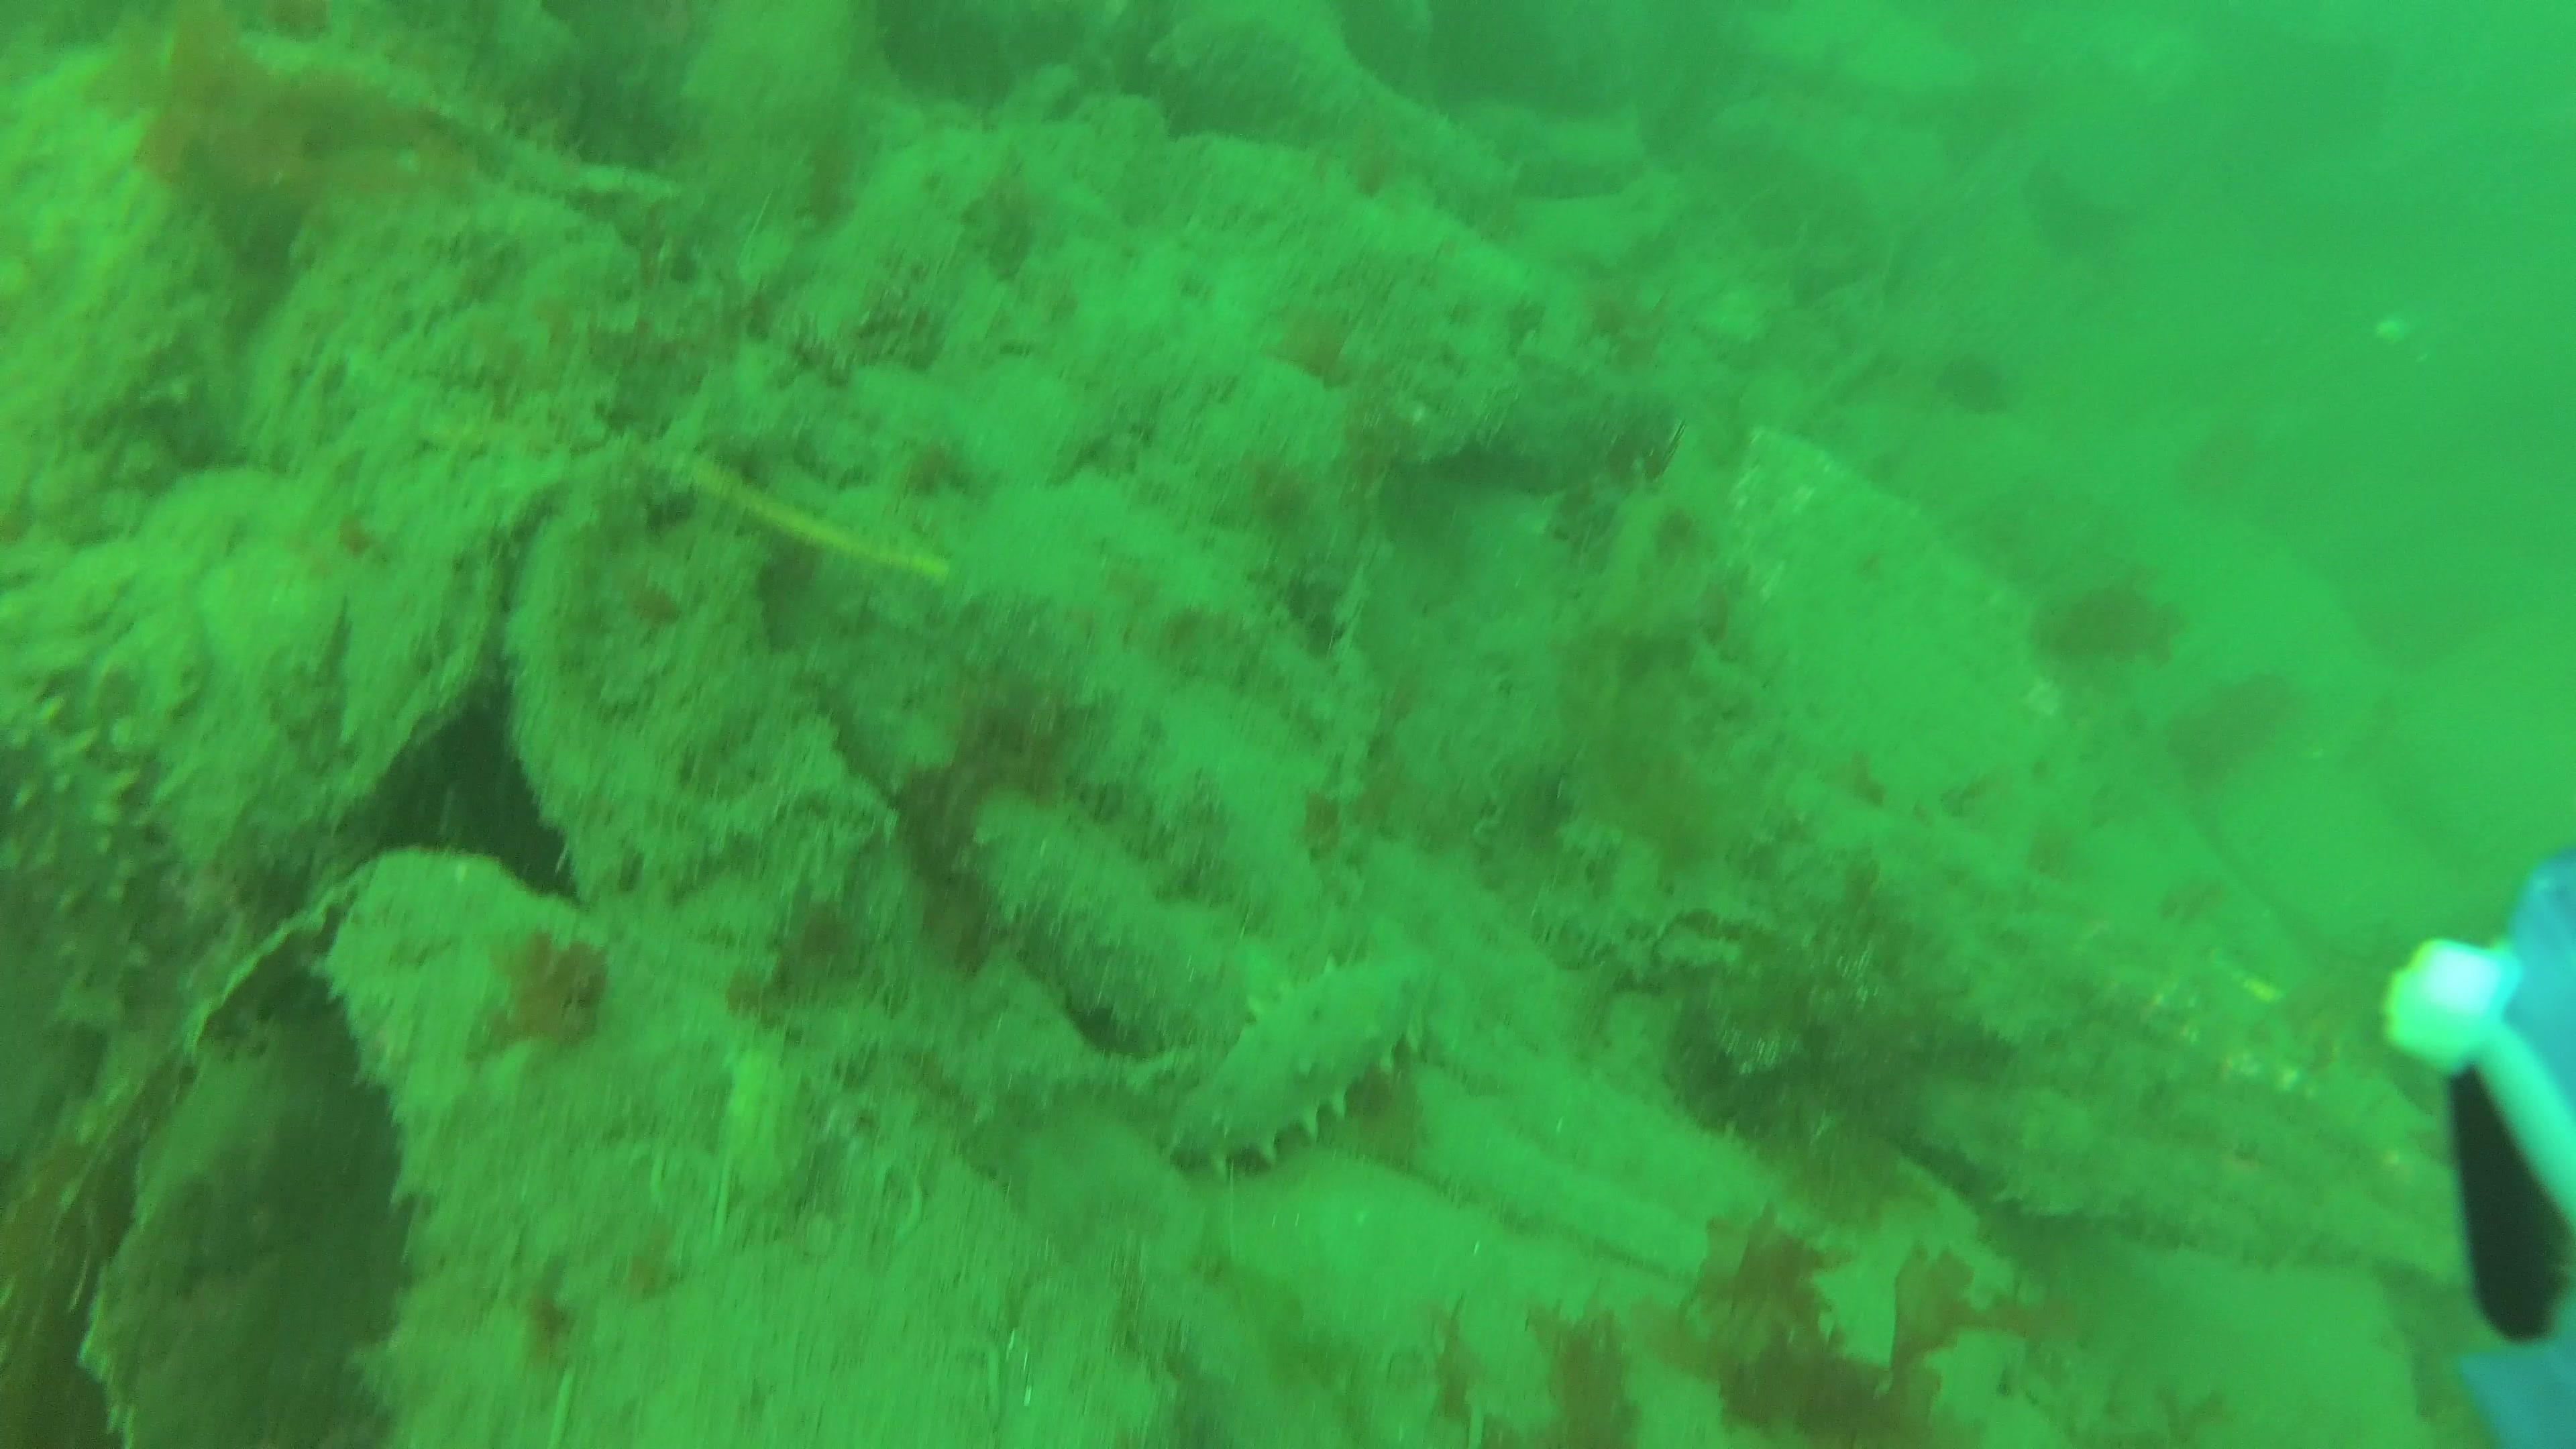holothurian: (7, 679, 179, 1146), (1173, 950, 1431, 1185)
